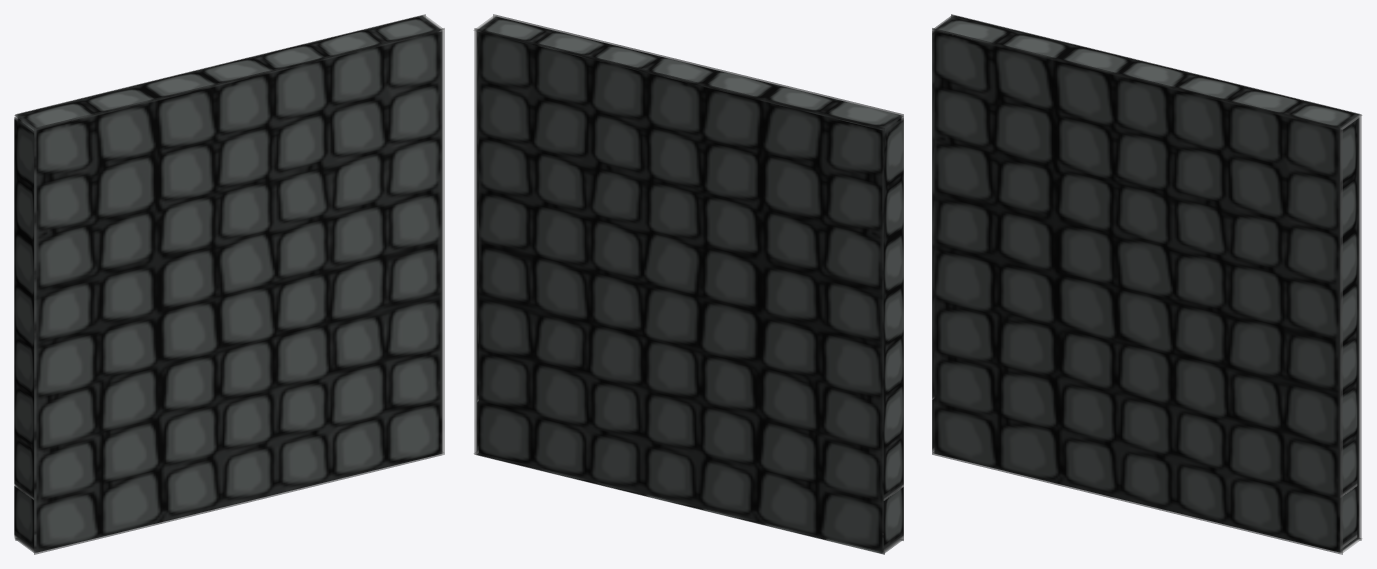
Rendered from blocksegment.gltf.
3 renders of one model, left to right at view 1: azimuth 30°, elevation 25°; view 2: azimuth 150°, elevation 25°; view 3: azimuth 330°, elevation 25°, orthographic.
Visible parts, largest first — view 1: cityblock; view 2: cityblock; view 3: cityblock.
Part boxes in pixels (bbox=[...]): cityblock: bbox=[14, 14, 444, 554]; cityblock: bbox=[473, 14, 903, 554]; cityblock: bbox=[932, 14, 1362, 554].
Bounding box in the file's own units: 3.95 × 3.92 × 0.334.
1 material, 1 textured.
